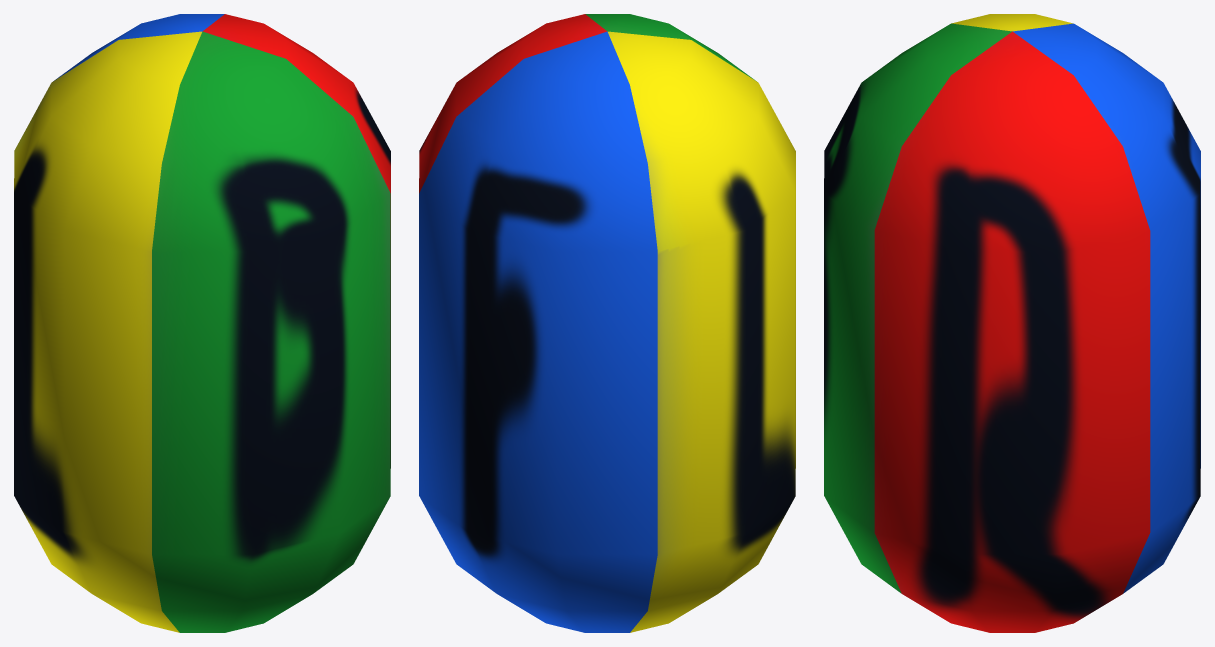
File: you-ball-1.glb
3 renders of one model, left to right at view 1: azimuth 30°, elevation 25°; view 2: azimuth 150°, elevation 25°; view 3: azimuth 270°, elevation 25°, orthographic.
Parts seen in each view (by area): view 1: Sphene; view 2: Sphene; view 3: Sphene.
Part boxes in pixels (<box>): Sphene: <box>14,14,390,632</box>; Sphene: <box>419,14,795,632</box>; Sphene: <box>824,14,1200,632</box>.
Size of the model in its own units: 1.88 by 3.22 by 1.88.
1 material, 1 textured.
